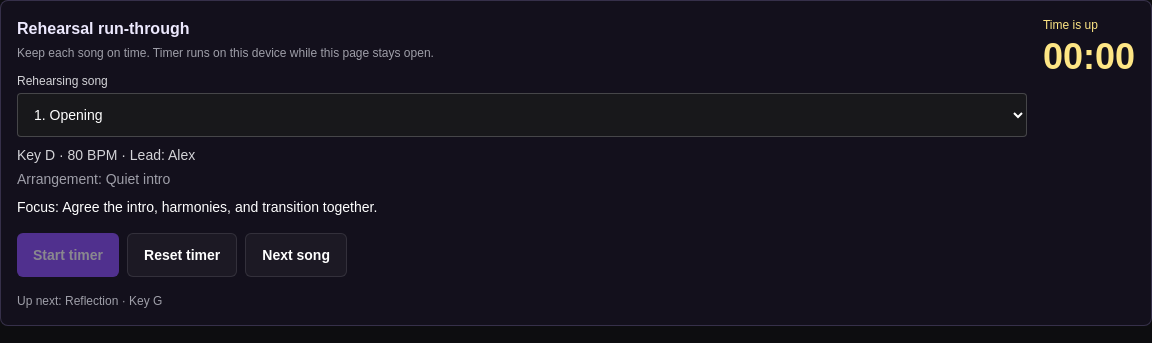
Scenario: rehearsal run-through › requires an allocation before starting a zero-minute song and handles empty plans
The width and height of the screenshot is (1152, 343).
Expected: the button "Start timer" is disabled, [17, 233, 119, 277]
Click the button "Next song".
click(296, 255)  # box [245, 233, 347, 277]
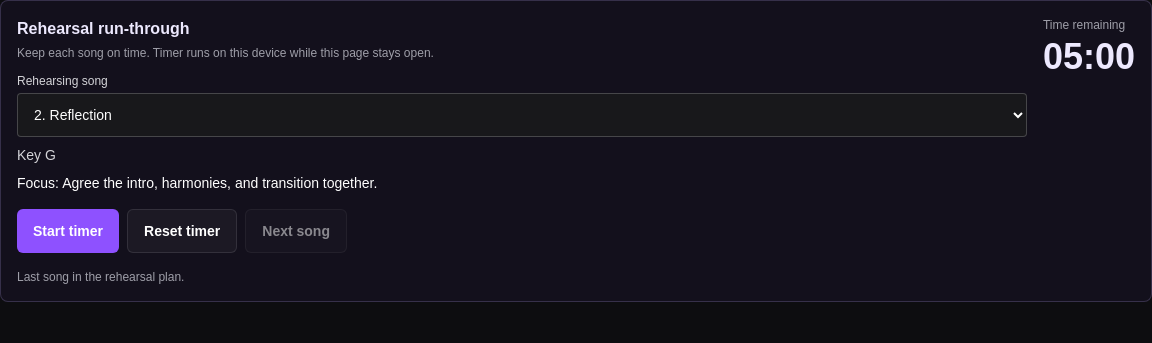
Expected: the text "05:00" is shown, [1043, 37, 1135, 77]
